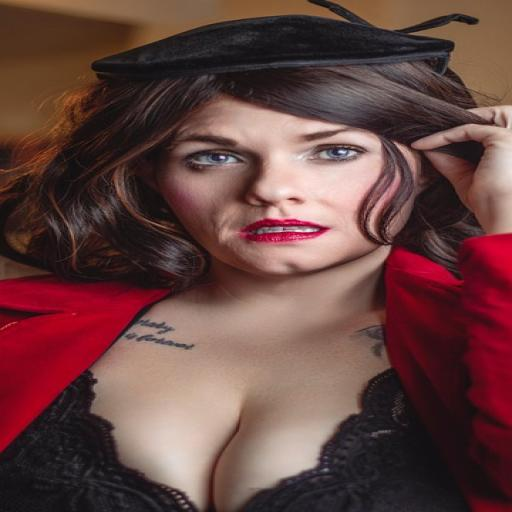lipstick: (241, 219, 327, 243)
